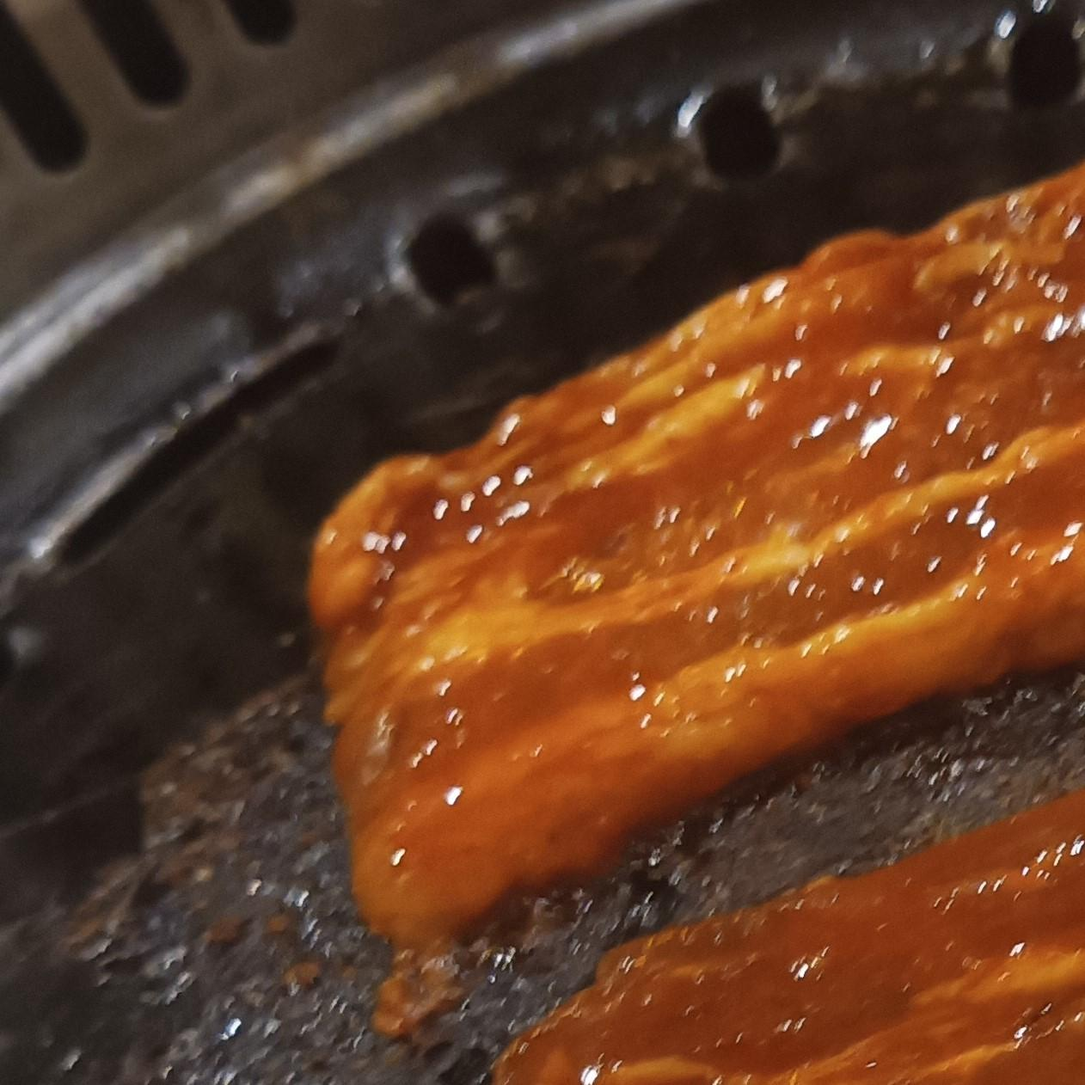Undercooked: (309, 165, 1084, 1024), (494, 790, 1084, 1084)
